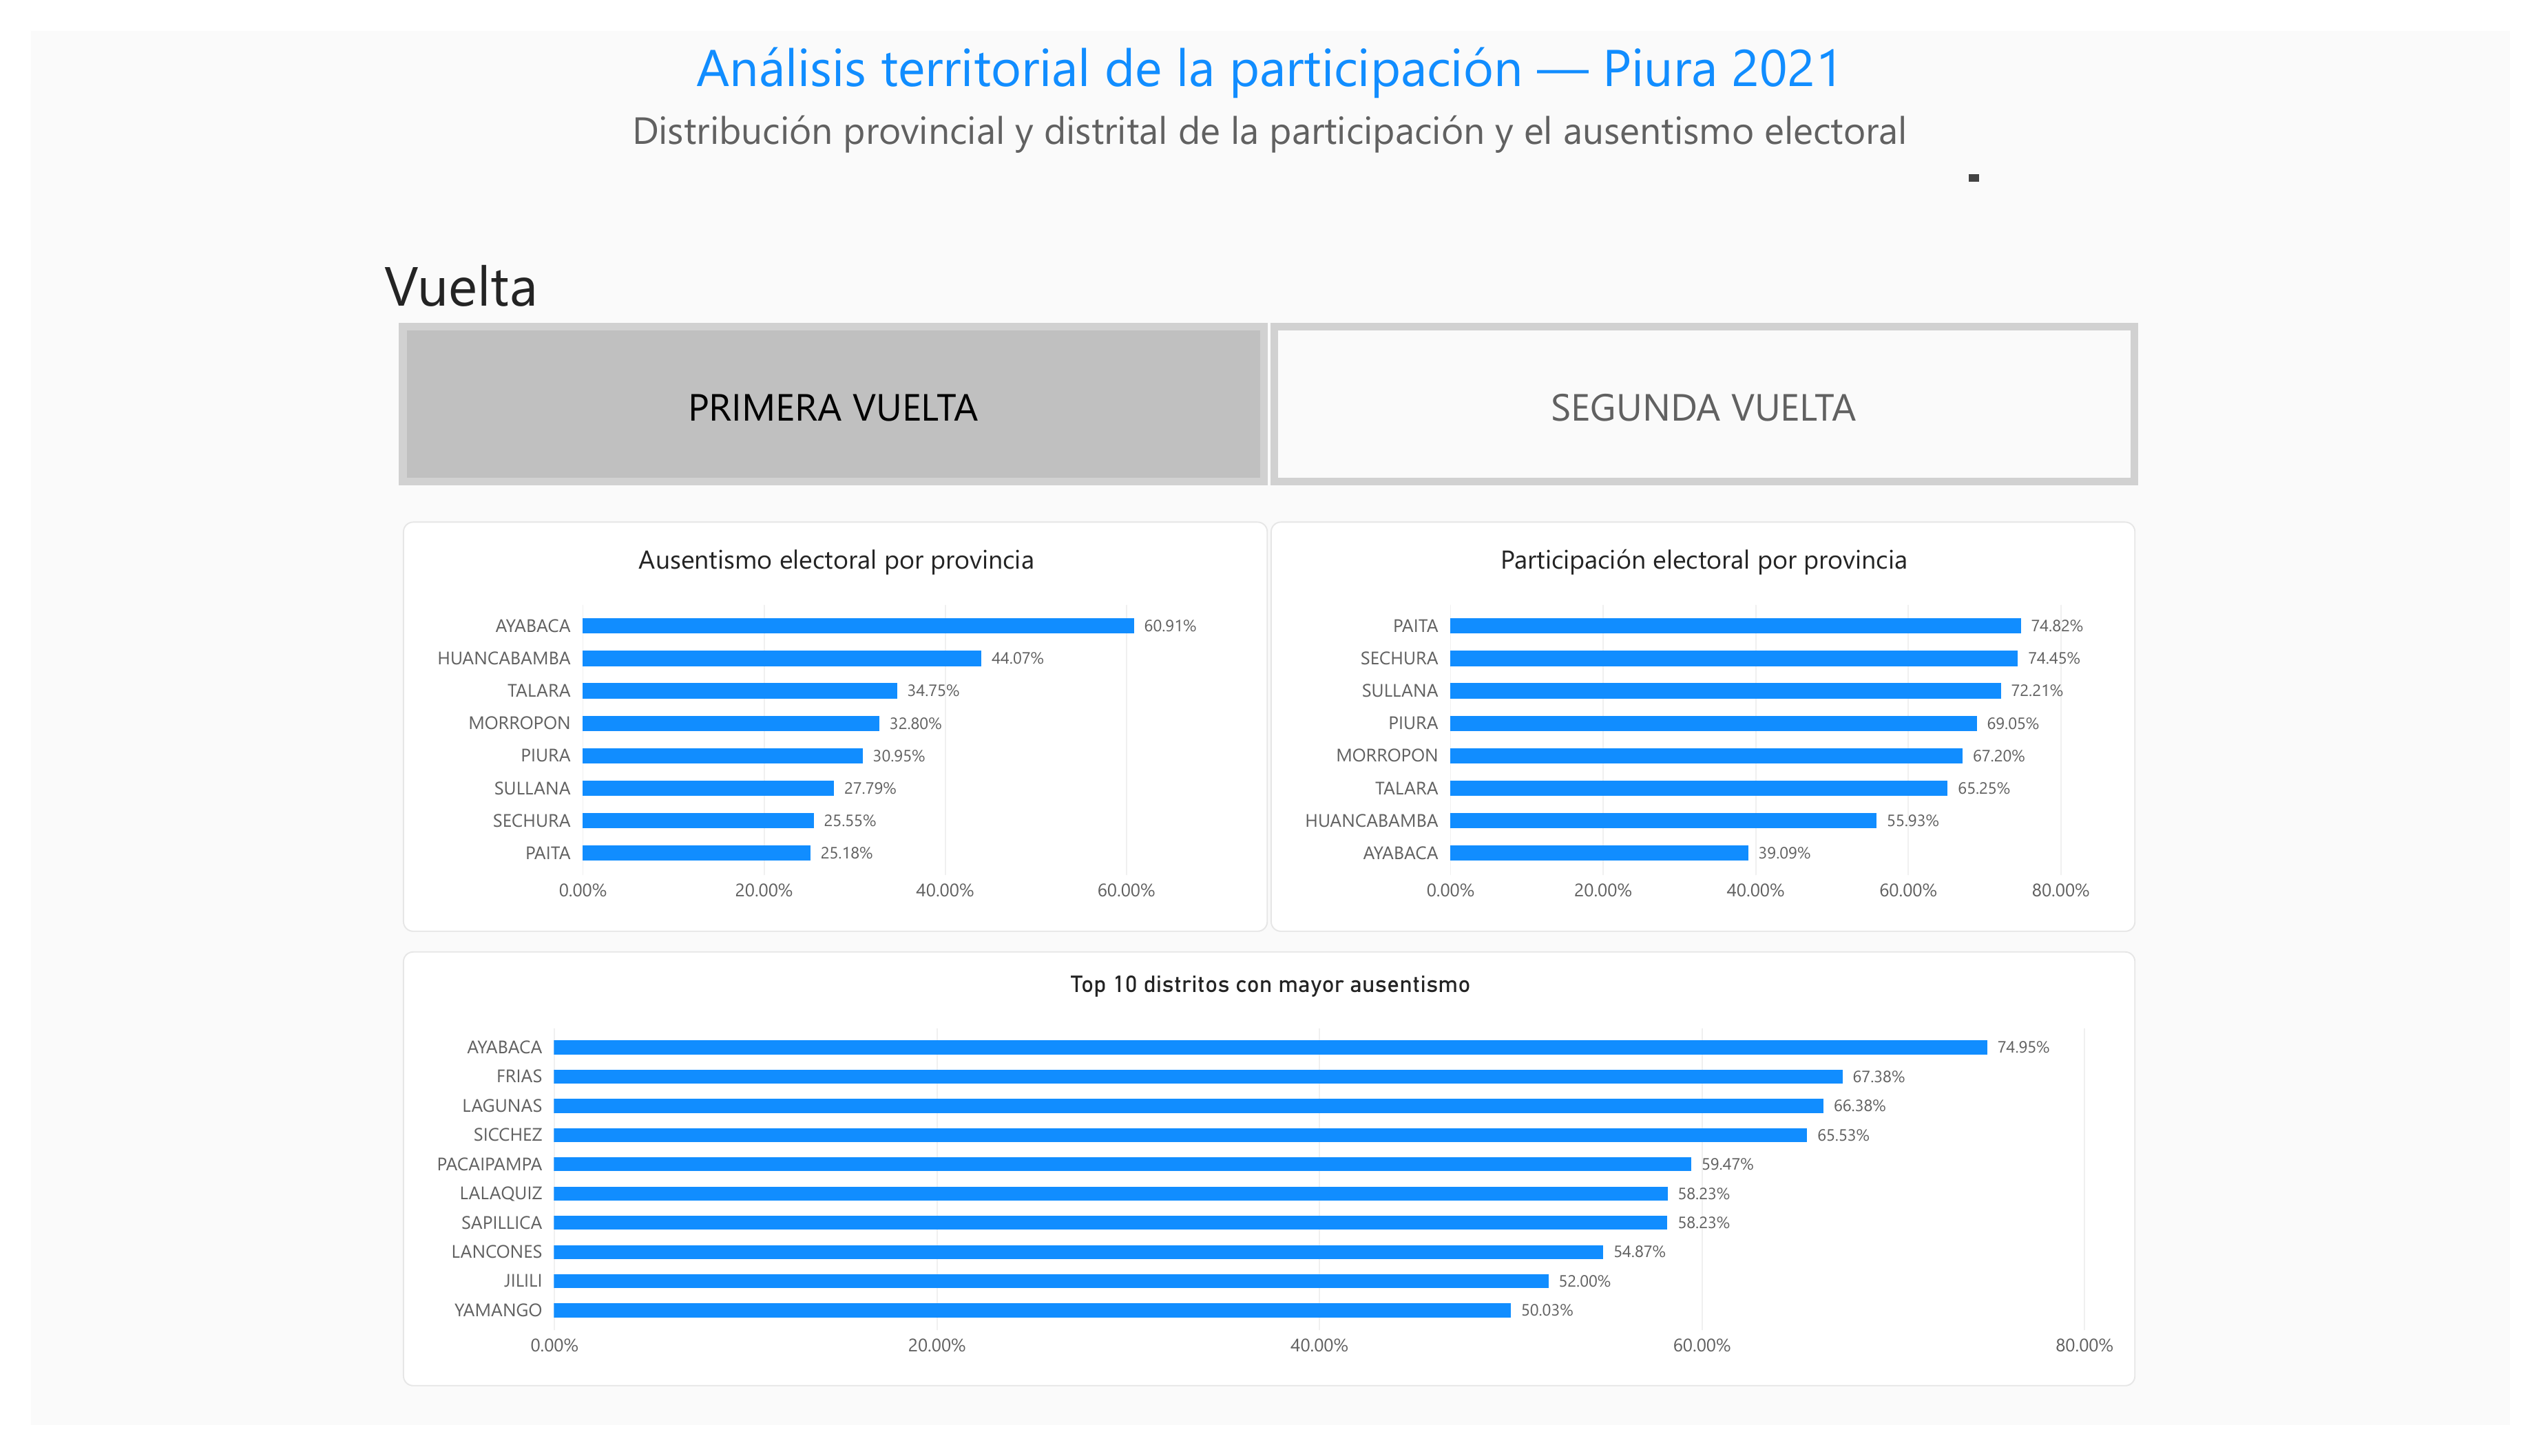

The page's visual inventory and layout, read from the dashboard file:
{"tool":"powerbi","page":{"name":"02 — Análisis territorial","canvas":[1920,1080],"ordinal":1},"visuals":[{"type":"textbox","title":"Análisis territorial de la participación — Piura 2021","box":[409.6,0,1099.1,117.3],"z":0},{"type":"slicer","fields":{"Values":["FACT_PARTICIPACION.VUELTA"]},"box":[265.5,166.7,1385.3,185.2],"z":1000},{"type":"clusteredBarChart","title":"Ausentismo electoral por provincia","fields":{"Category":["DIM_TERRITORIO.PROVINCIA"],"Y":["_MEDIDAS.Ausentismo %"]},"box":[288,380,670,318],"z":2000},{"type":"clusteredBarChart","title":"Participación electoral por provincia","fields":{"Category":["DIM_TERRITORIO.PROVINCIA"],"Y":["_MEDIDAS.Participación %"]},"box":[960,380,670,318],"z":3000},{"type":"clusteredBarChart","title":"Top 10 distritos con mayor ausentismo","fields":{"Category":["DIM_TERRITORIO.DISTRITO"],"Y":["_MEDIDAS.Ausentismo %"]},"box":[288.3,713.3,1341.7,336.7],"z":4000}]}

Visuals, with their boxes in screenshot pixels (x1, y1, x2, y2), scaled from the page's 1920x1080 canvas onto the 2541x1456 screenshot:
"Análisis territorial de la participación — Piura 2021" textbox: region(542, 0, 1997, 158)
slicer - FACT_PARTICIPACION.VUELTA: region(351, 224, 2185, 474)
"Ausentismo electoral por provincia" clusteredBarChart: region(381, 512, 1268, 941)
"Participación electoral por provincia" clusteredBarChart: region(1270, 512, 2157, 941)
"Top 10 distritos con mayor ausentismo" clusteredBarChart: region(381, 962, 2157, 1415)
